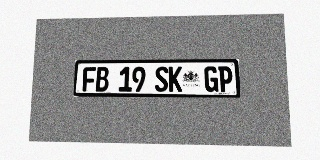1: (119, 67, 132, 92)
9: (132, 67, 145, 92)
B: (95, 67, 109, 91)
F: (82, 67, 96, 91)
G: (204, 66, 218, 92)
K: (169, 66, 182, 92)
P: (218, 66, 233, 92)
S: (155, 66, 168, 92)
